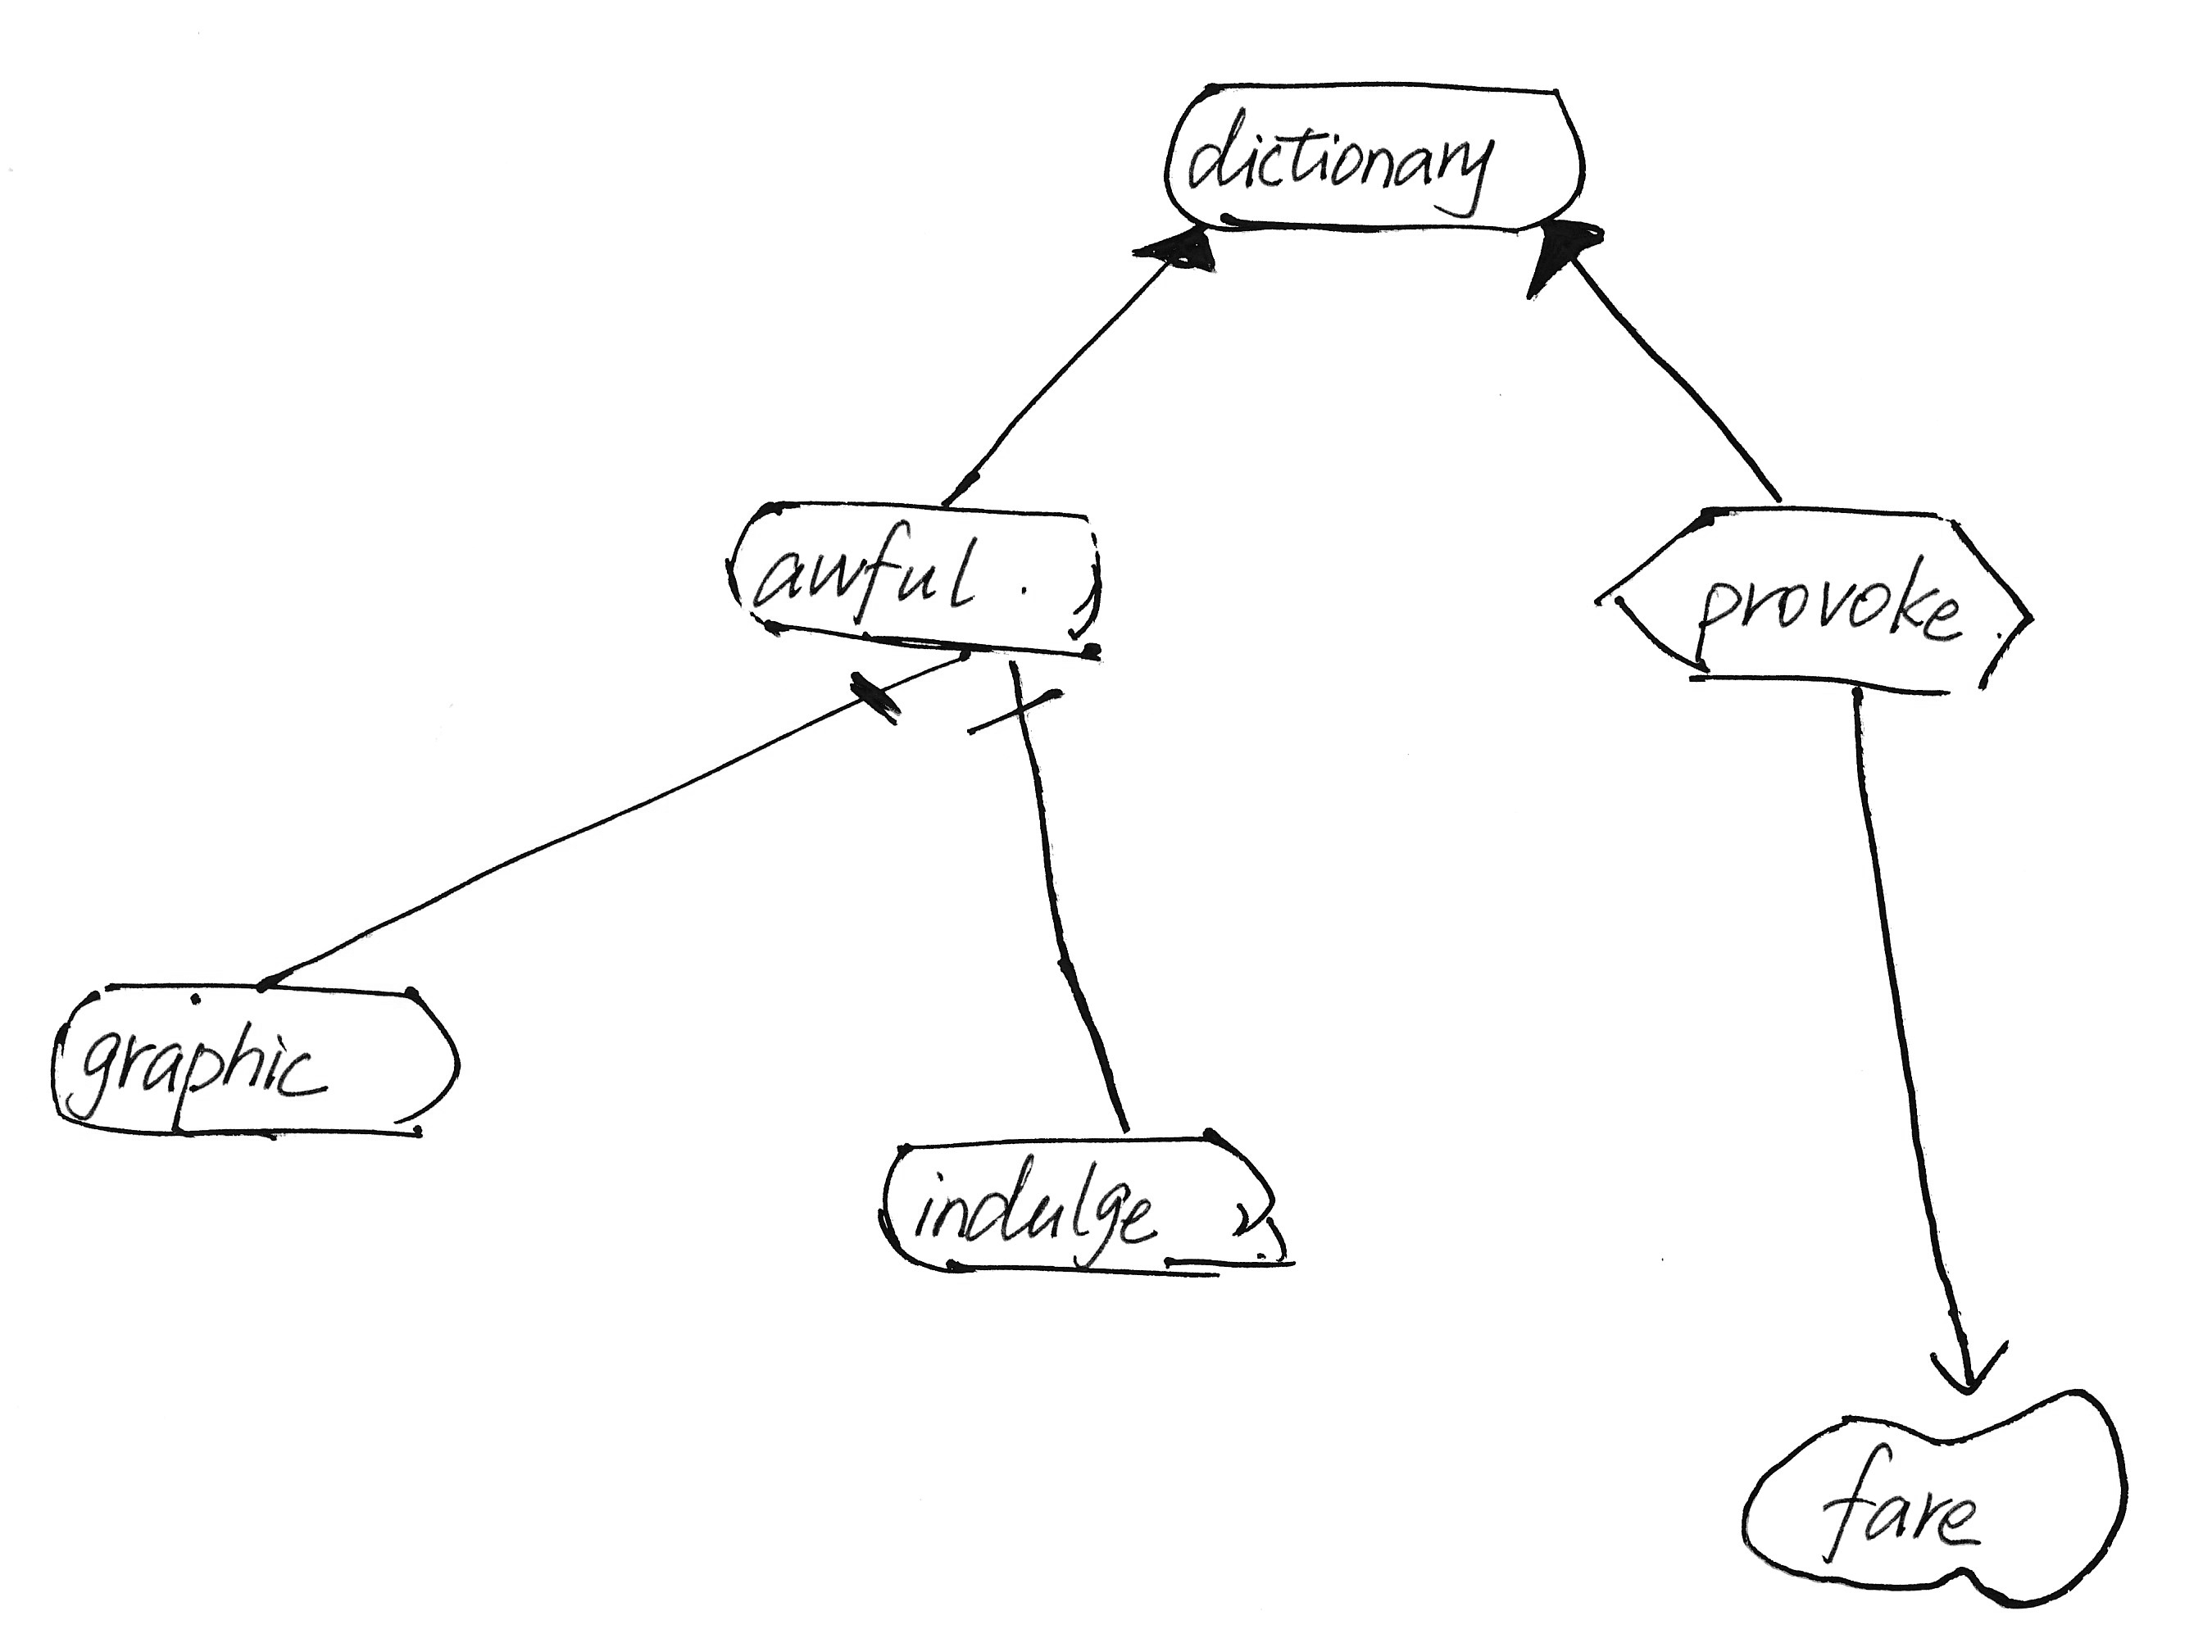and: (838, 642, 973, 727), (973, 649, 1072, 744)
arrow: (1915, 1333, 2021, 1409)
goal: (1152, 57, 1603, 253), (36, 960, 477, 1157), (711, 481, 1133, 677), (861, 1114, 1305, 1298)
or: (1114, 208, 1240, 286), (1511, 208, 1613, 302)
quality: (1723, 1376, 2148, 1617)
task: (1574, 488, 2047, 706)
